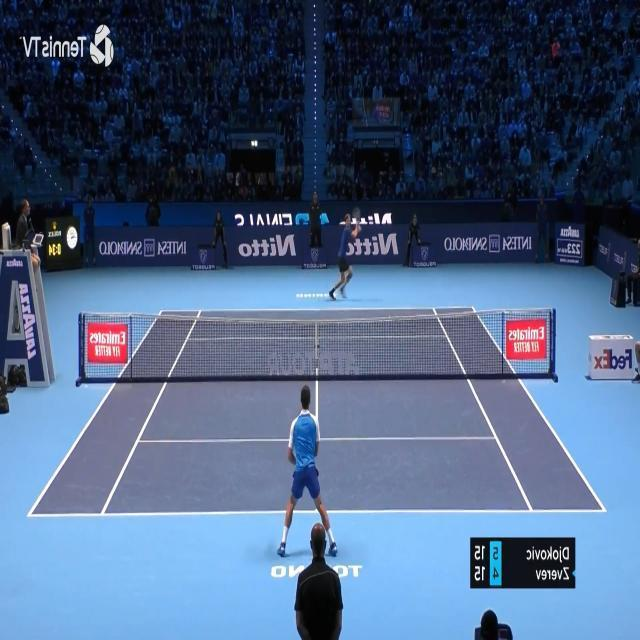court: (26, 306, 608, 518)
net: (77, 308, 556, 379)
player: (276, 383, 339, 559)
